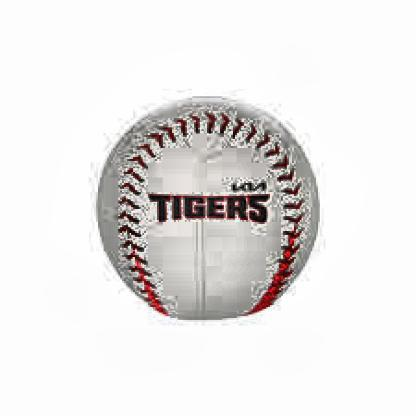baseball: (115, 103, 300, 306)
